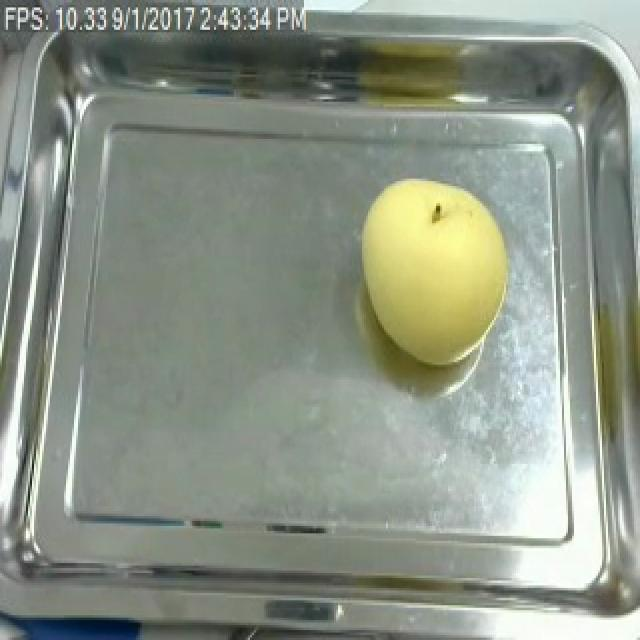Fruit: (354, 169, 518, 372)
